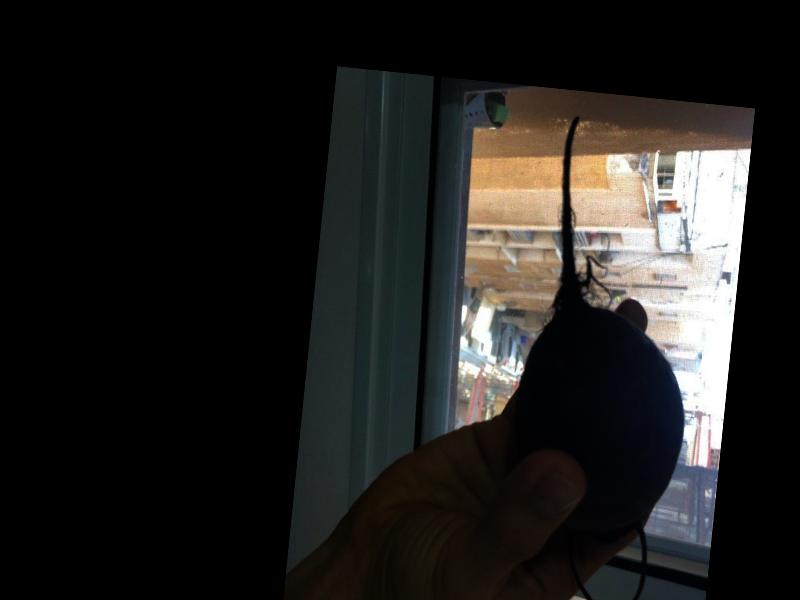Beet: (496, 111, 714, 600)
